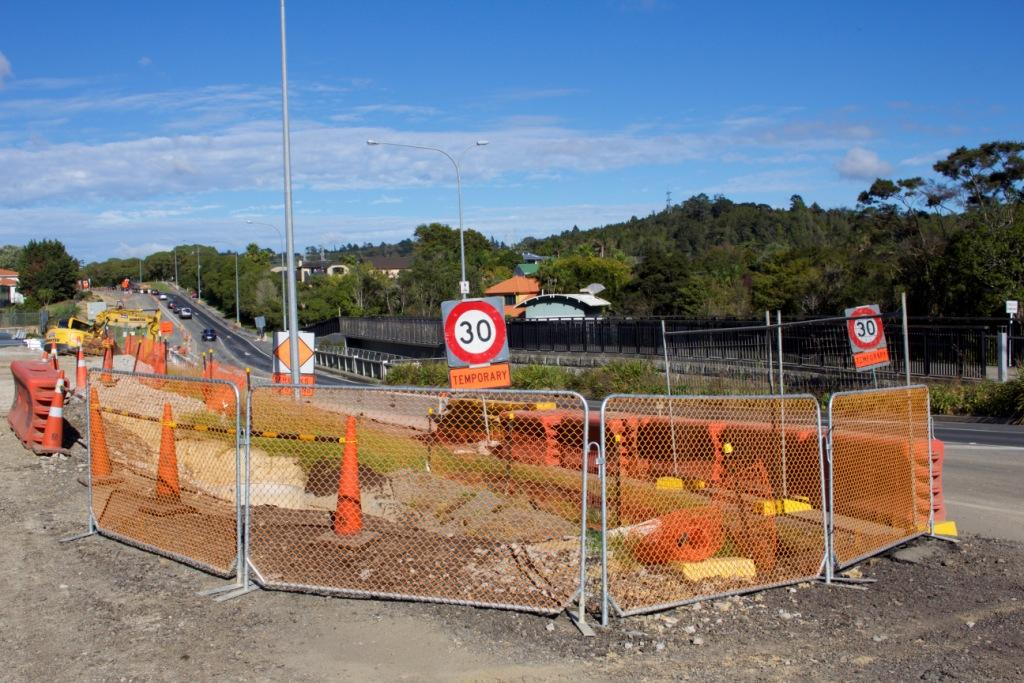Barrier: (64, 361, 952, 631), (6, 352, 73, 459)
